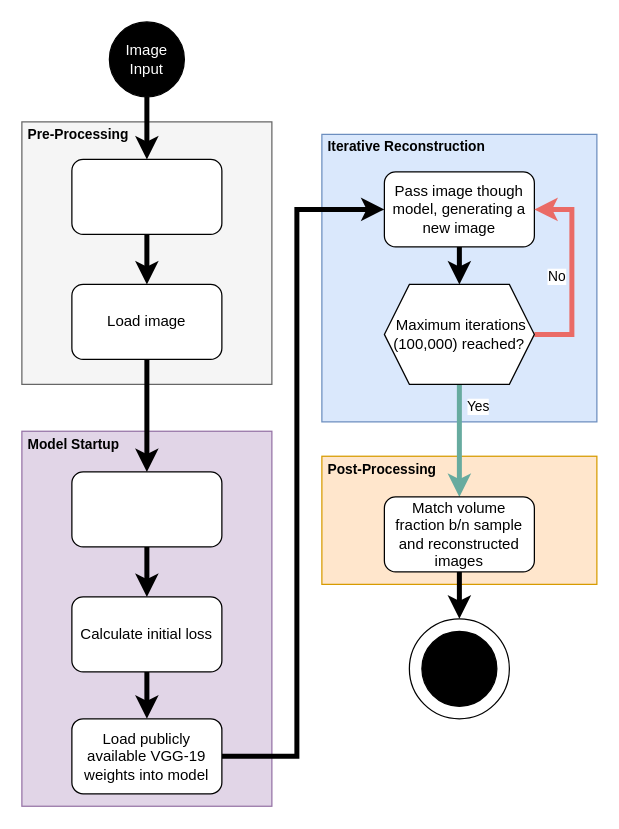
The diagram is 619 pixels wide and 829 high, and some of its shapes have lost their labels. Each missing label, with the centre of its shape:
"Create initial random noisy image" goes at point 146,509.
"Image Output" goes at point 459,668.
"Load VGG-19 model" goes at point 146,196.
